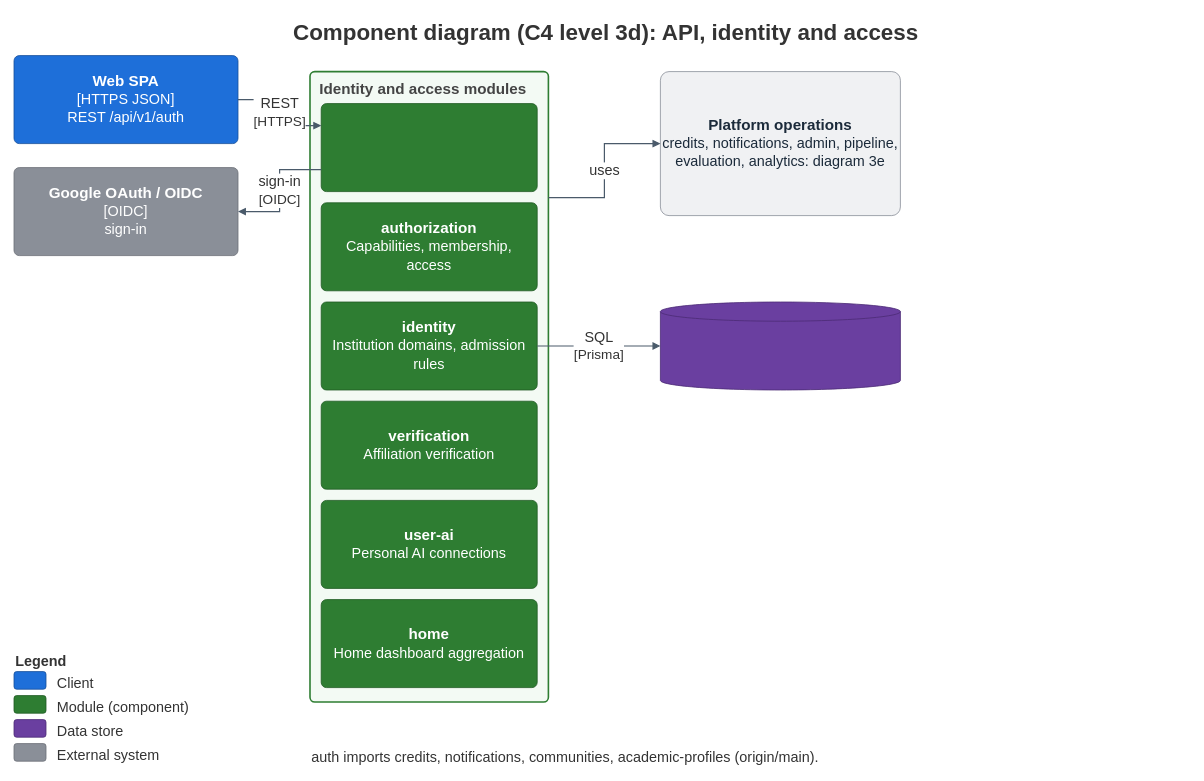
The diagram is 1204 pixels wide and 781 high, and some of its shapes have lost their labels. Each missing label, with the centre of its shape:
"auth Login, tokens, verify, reset, Google OIDC" goes at pixel 428 147.
"PostgreSQL [Prisma] users, tokens, profiles" goes at pixel 780 345.
